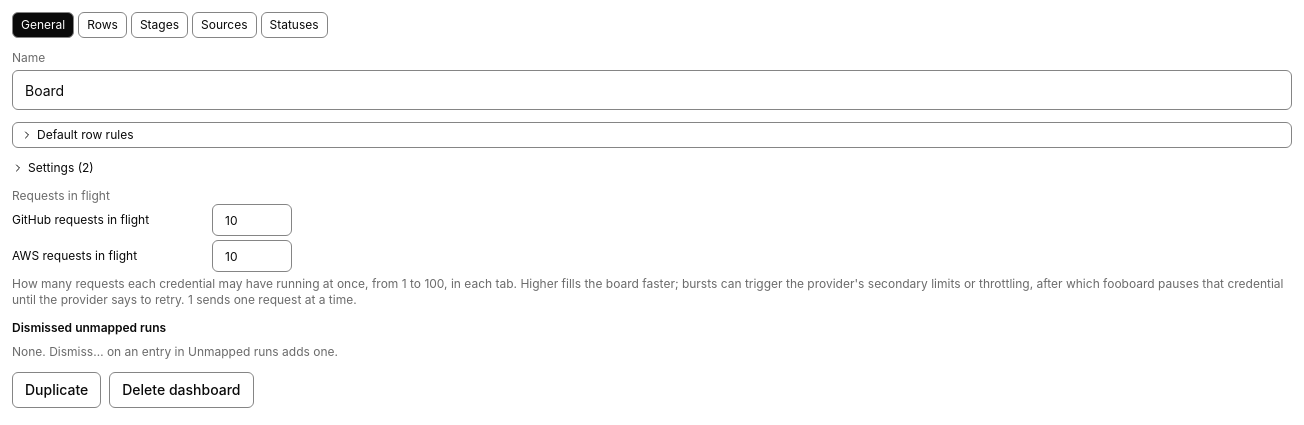
the Amplify app picker › names an app by its id when it has no name, and leaves out an app without an id
The width and height of the screenshot is (1304, 425).
Press the mouse on the tab "Rows" at (103, 25), box [78,12,127,38]
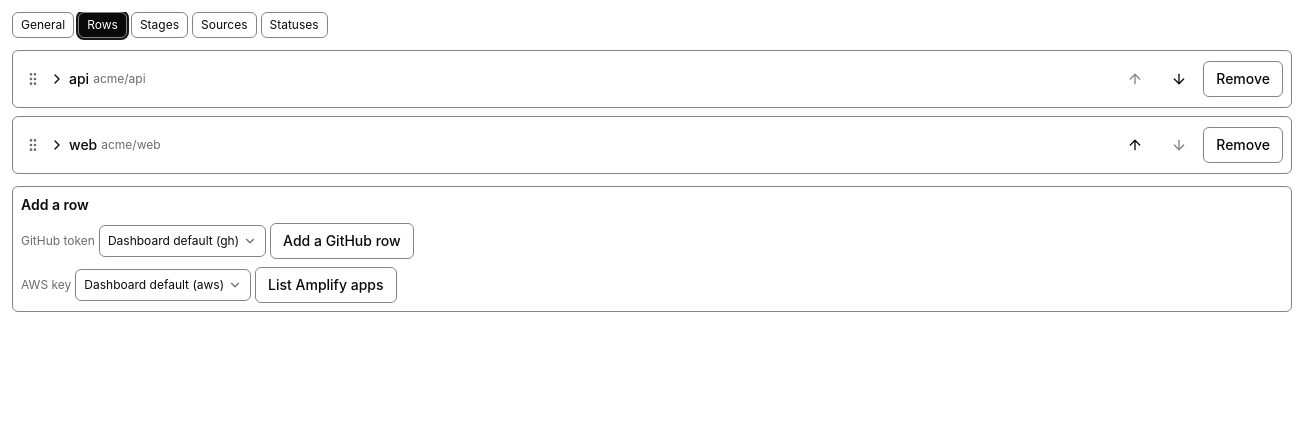
Click the button "List Amplify apps" at (326, 285), box [255,267,397,303]
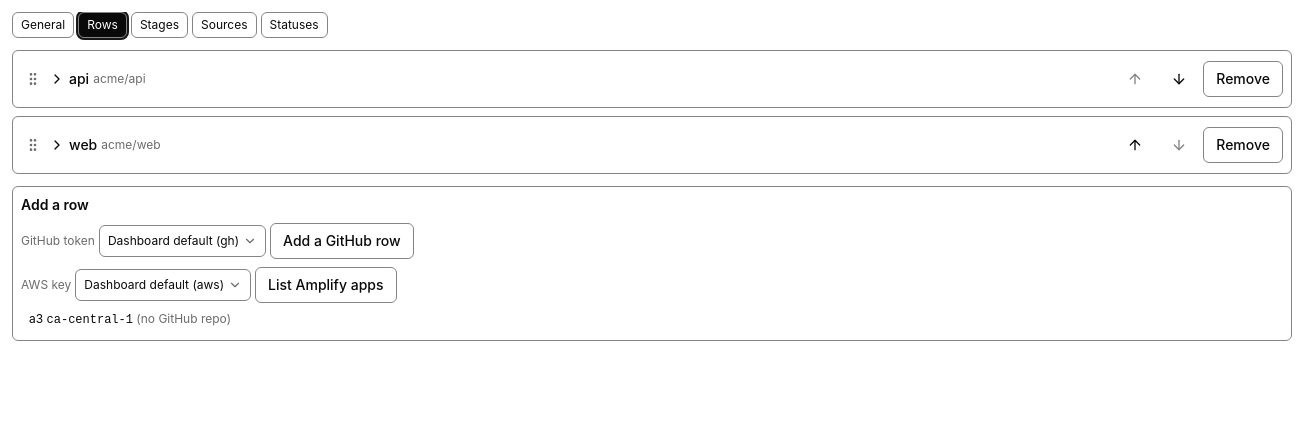
Result: the button "a3 ca-central-1 (no GitHub repo)" is shown at [21,307,1283,332]
